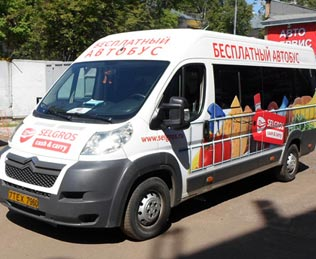van: (3, 27, 316, 239)
